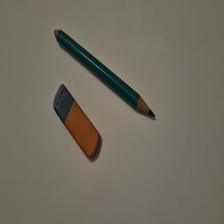eraser: (54, 84, 102, 159)
pencil: (55, 30, 157, 118)
